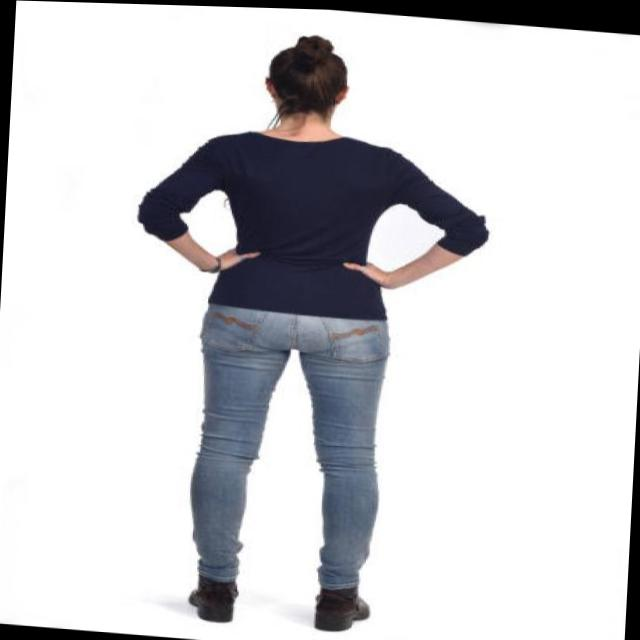no helmet: (232, 13, 374, 146)
